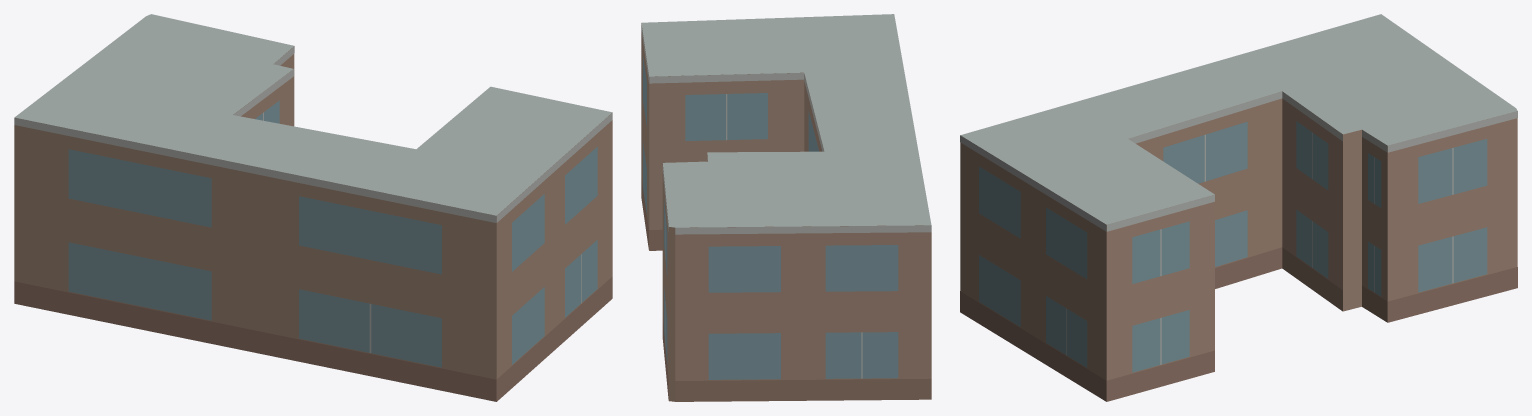
Rendered from survey-upis-32767211.glb.
3 renders of one model, left to right at view 1: azimuth 30°, elevation 25°; view 2: azimuth 150°, elevation 25°; view 3: azimuth 270°, elevation 25°, orthographic. The views are drawn at different scales.
Parts seen in each view (by area): view 1: survey-upis-32767211.tmp; view 2: survey-upis-32767211.tmp; view 3: survey-upis-32767211.tmp.
Part boxes in pixels (box(x1,y1,x2,y2)): survey-upis-32767211.tmp: box(14, 14, 612, 401); survey-upis-32767211.tmp: box(641, 14, 931, 401); survey-upis-32767211.tmp: box(960, 14, 1517, 401).
Size of the model in its own units: 15.58 by 6.1 by 17.41.
